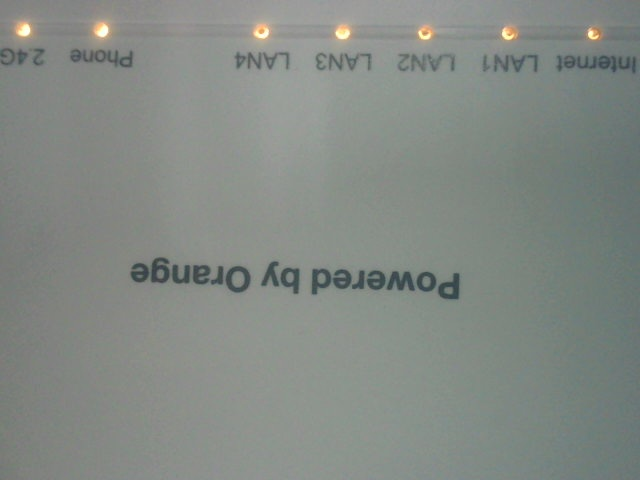AS_PowerByOrange: (114, 239, 482, 315)
